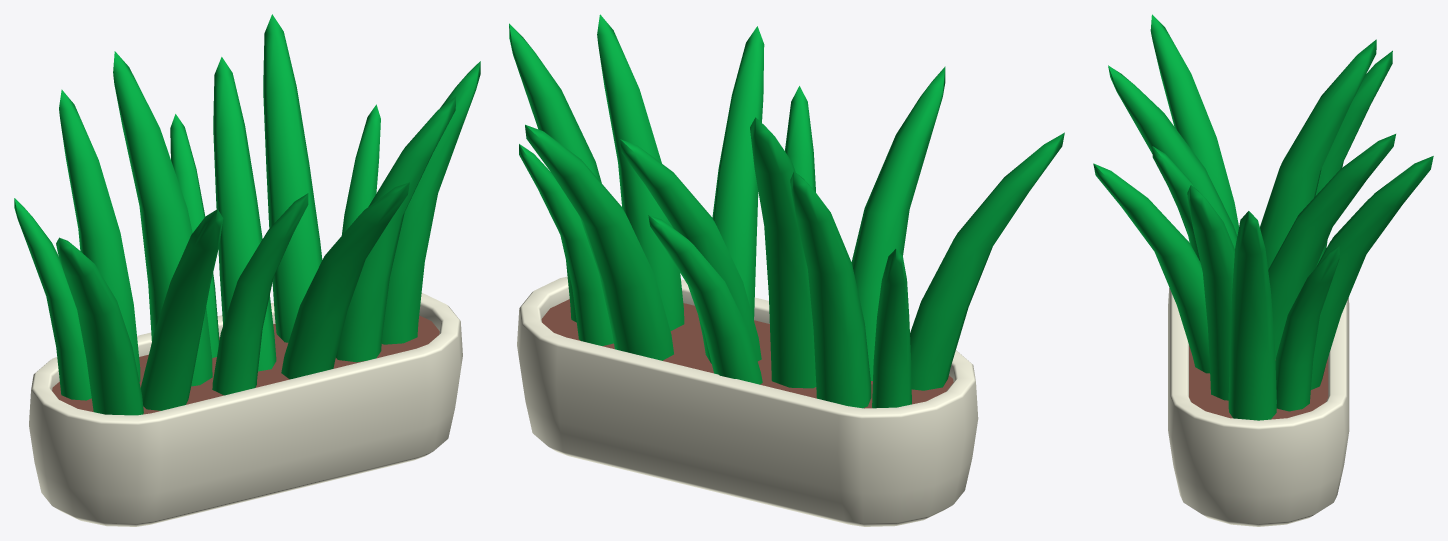
File: City_8_Plant_2.glb
3 views of the same model, side by side, from view 1: azimuth 30°, elevation 25°; view 2: azimuth 150°, elevation 25°; view 3: azimuth 270°, elevation 25° (orthographic). The views are drawn at different scales.
Parts seen in each view (by area): view 1: City_8_Plant_2; view 2: City_8_Plant_2; view 3: City_8_Plant_2.
Part boxes in pixels (box(x1,y1,x2,y2)): City_8_Plant_2: box(14, 14, 480, 526); City_8_Plant_2: box(509, 14, 1064, 526); City_8_Plant_2: box(1093, 14, 1433, 526).
Bounding box in the file's own units: 2.45 × 1.92 × 1.61.
1 material, 1 textured.
